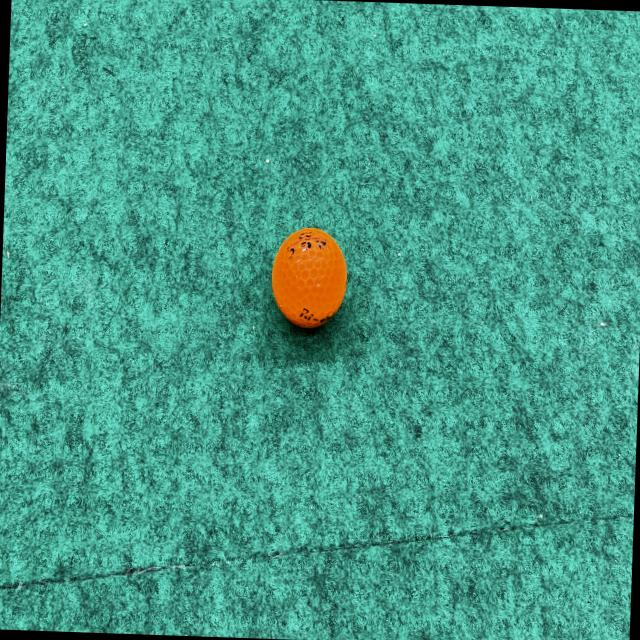ball: (267, 224, 351, 335)
